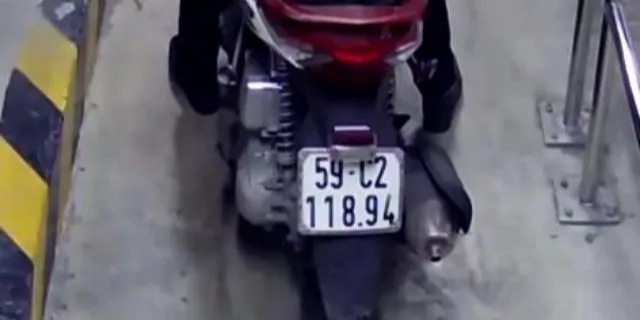bien_so: (300, 148, 404, 236)
